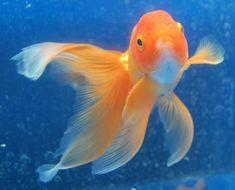goldfish: (83, 9, 219, 156)
